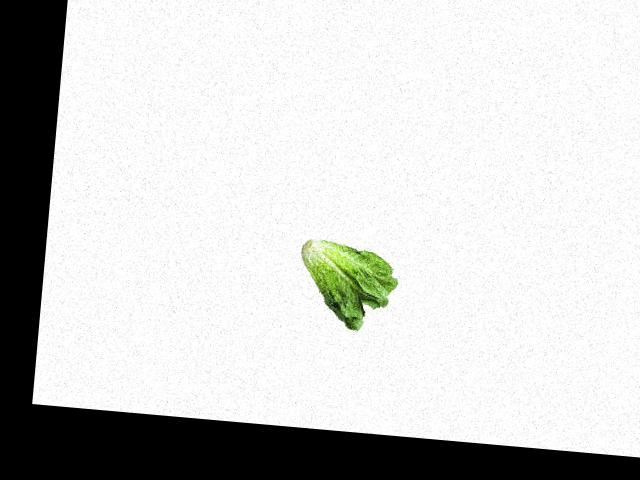lettuce: (297, 233, 400, 339)
